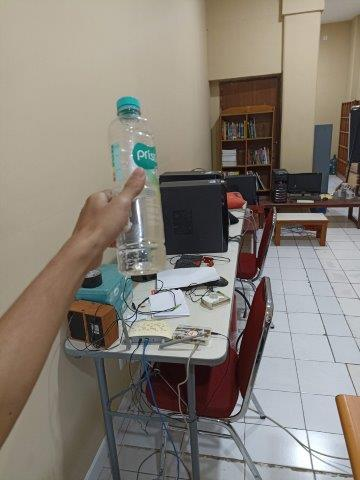botolplastik: (108, 96, 168, 276)
